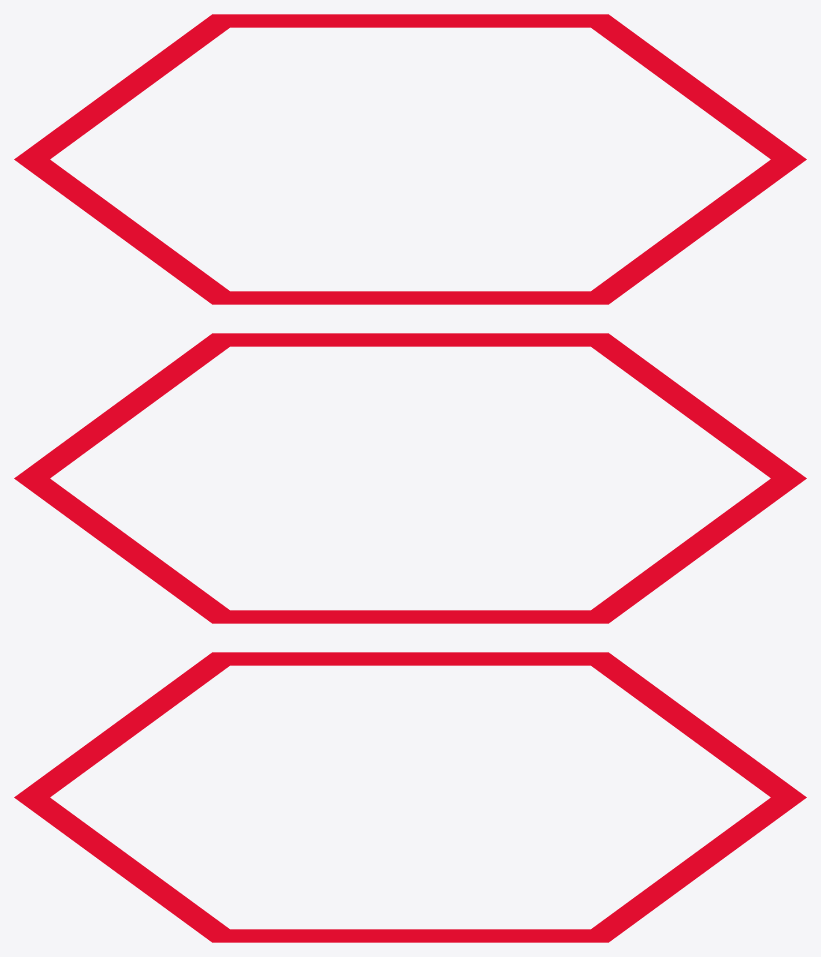
The model's file is select.glb.
3 renders of one model, top to bottom at view 1: azimuth 30°, elevation 25°; view 2: azimuth 150°, elevation 25°; view 3: azimuth 270°, elevation 25°, orthographic.
Parts seen in each view (by area): view 1: base.001; view 2: base.001; view 3: base.001.
Boxes of the visible parts, <box> form: base.001: <box>14,14,806,304</box>; base.001: <box>14,333,806,623</box>; base.001: <box>14,652,806,942</box>.
Bounding box in the file's own units: 1.91 × 0 × 2.2.
